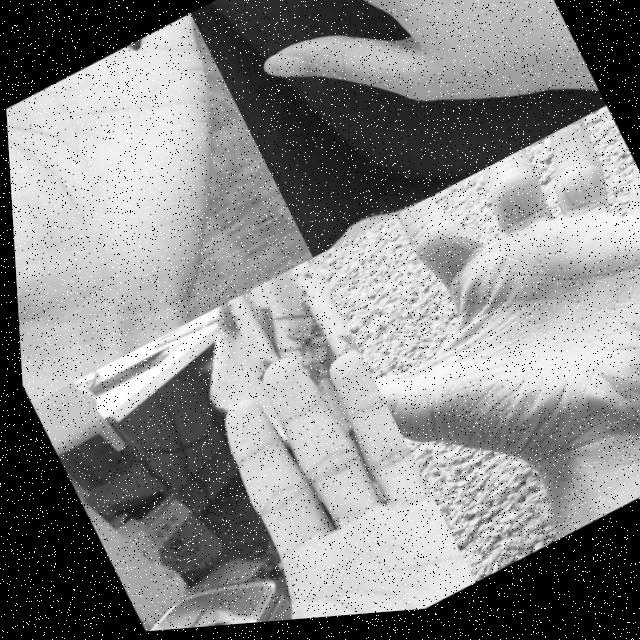hand: (303, 112, 640, 554), (52, 319, 469, 638), (1, 10, 303, 379), (221, 0, 598, 230)
